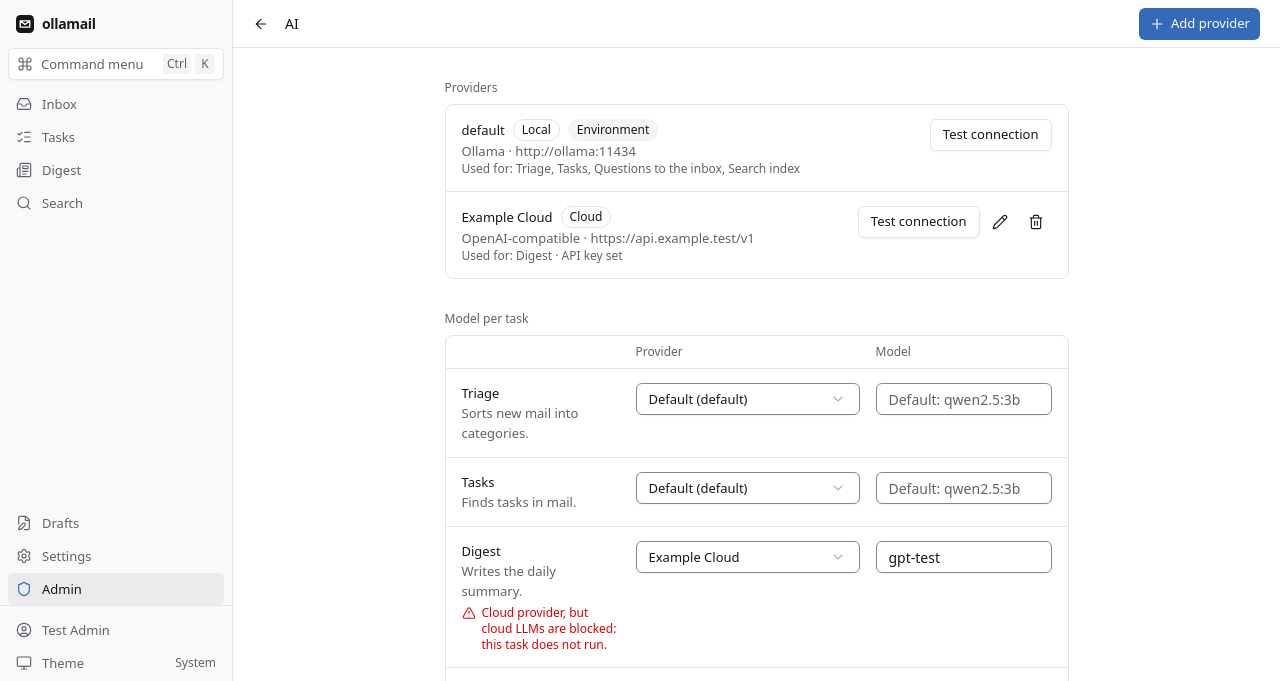
Test: AI settings › lists providers and tests connections
This screenshot has width=1280, height=681.
Expected: the heading "AI" is shown, [285,14,299,34]
Expected: the list item that starts with "default" shows "Environment", [577,121,649,138]
Click the button "Test connection" in the row of "Environment" at (991, 135), box [930,119,1052,151]
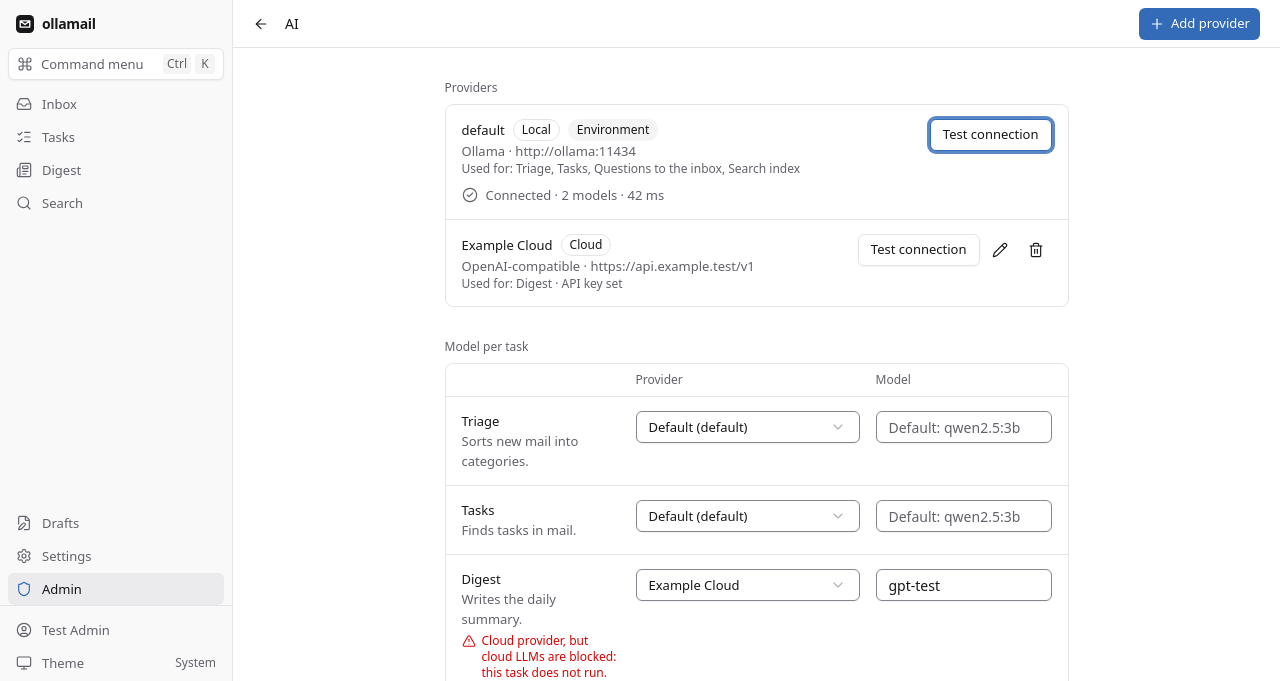
Now the message reads "Connected · 2 models · 42 ms", box [486,186,664,204]
Click the button "Test connection" next to "https://api.example.test/v1" at (919, 250), box [858,234,980,266]
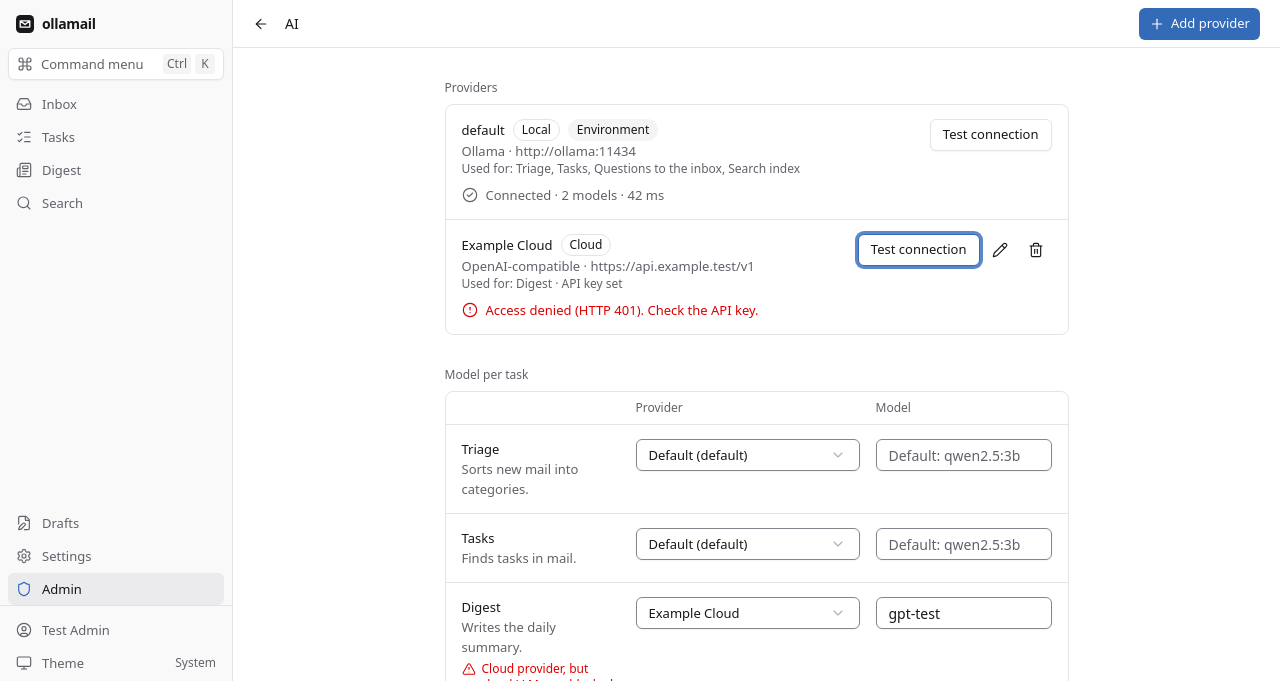
Now the message "Access denied (HTTP 401). Check the API key." is shown, box [462,301,759,319]
